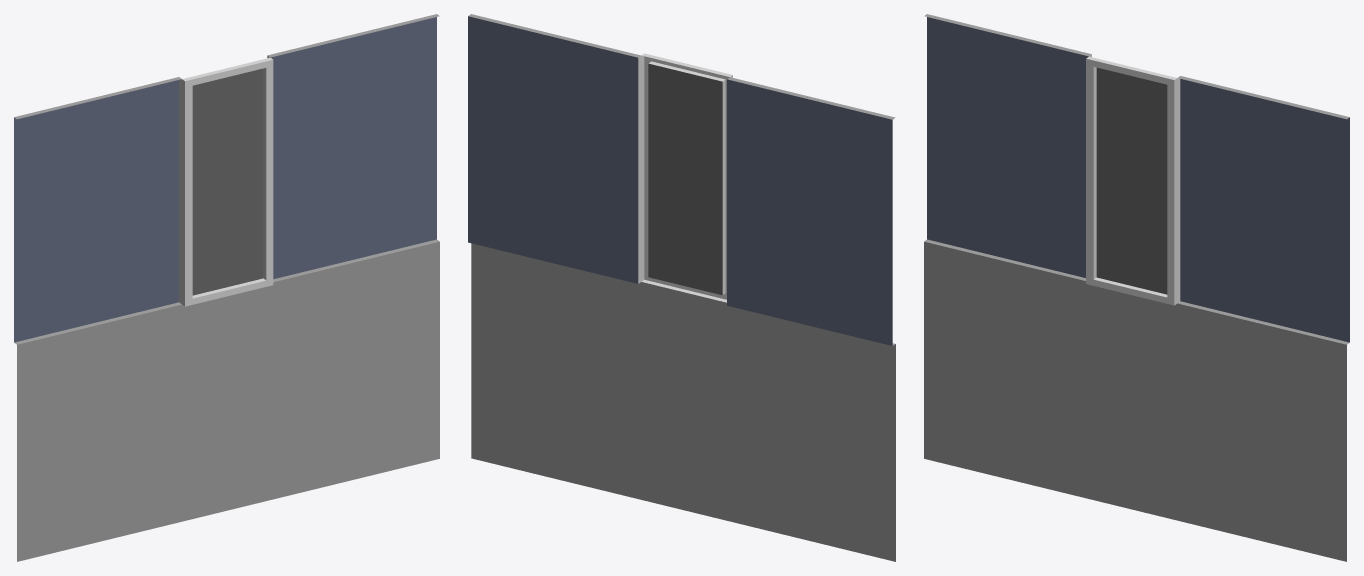
The model's file is S1_Window_Small.fbx.
The picture shows the model from 3 angles, left to right: view 1: azimuth 30°, elevation 25°; view 2: azimuth 150°, elevation 25°; view 3: azimuth 330°, elevation 25°; orthographic projection.
Parts seen in each view (by area): view 1: S1_Window_Small; view 2: S1_Window_Small; view 3: S1_Window_Small.
Part boxes in pixels (bbox=[...]): S1_Window_Small: bbox=[14, 14, 439, 561]; S1_Window_Small: bbox=[468, 14, 895, 561]; S1_Window_Small: bbox=[924, 14, 1349, 561].
Size of the model in its own units: 30 by 30 by 0.733.
